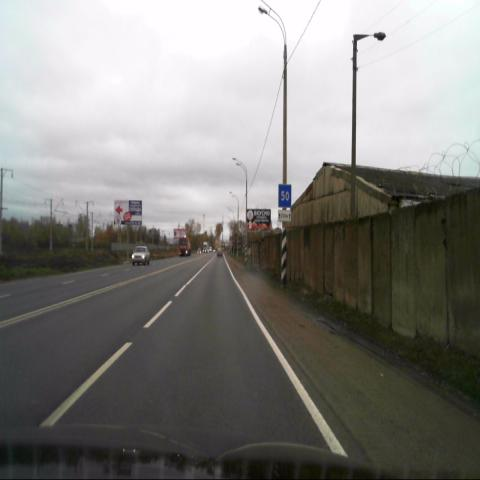6_2: (278, 184, 291, 207)
